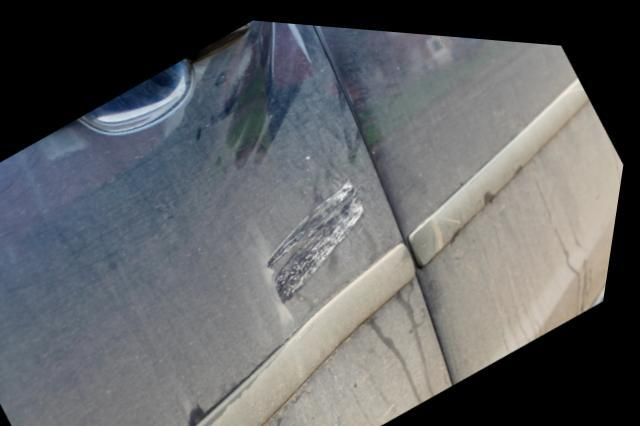scratch: (273, 171, 376, 302)
